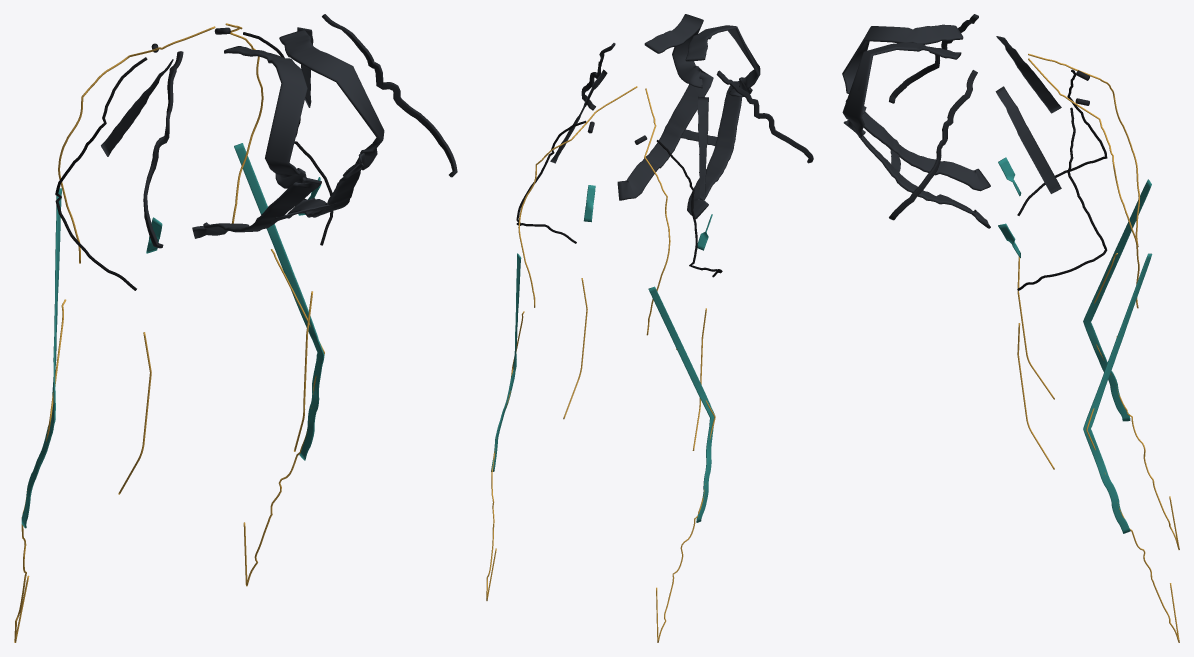
The model's file is sitka_cables_stoop.glb.
The picture shows the model from 3 angles, left to right: view 1: azimuth 30°, elevation 25°; view 2: azimuth 150°, elevation 25°; view 3: azimuth 270°, elevation 25°; orthographic projection. The views are drawn at different scales.
Parts seen in each view (by area): view 1: harness_r, harness_l, hamstring_band_l, hamstring_band_r, m5_lever_l, m5_lever_r, bowden_r, crazycreek_r, t3_tendon_r, calf_band_l, calf_band_r; view 2: harness_l, harness_r, hamstring_band_r, crazycreek_r, m5_lever_r, hamstring_band_l, t3_tendon_l, t3_tendon_r, bowden_l, bowden_r; view 3: harness_r, harness_l, hamstring_band_l, hamstring_band_r, crazycreek_l, m5_lever_l, crazycreek_r, bowden_l, m5_lever_r, t3_tendon_l, bowden_r, t3_tendon_r (+1 smaller).
Part boxes in pixels (bbox=[...]): harness_r: bbox=[192, 46, 321, 238]; harness_l: bbox=[279, 29, 384, 218]; hamstring_band_l: bbox=[234, 143, 324, 460]; hamstring_band_r: bbox=[21, 188, 61, 528]; m5_lever_l: bbox=[322, 14, 457, 177]; m5_lever_r: bbox=[143, 51, 183, 248]; bowden_r: bbox=[55, 57, 147, 290]; crazycreek_r: bbox=[101, 59, 173, 156]; t3_tendon_r: bbox=[58, 26, 215, 263]; calf_band_l: bbox=[246, 249, 324, 586]; calf_band_r: bbox=[14, 299, 66, 642]; harness_l: bbox=[617, 14, 713, 200]; harness_r: bbox=[685, 25, 760, 219]; hamstring_band_r: bbox=[648, 286, 715, 522]; crazycreek_r: bbox=[697, 96, 708, 199]; m5_lever_r: bbox=[716, 70, 813, 163]; hamstring_band_l: bbox=[491, 253, 521, 471]; t3_tendon_l: bbox=[518, 86, 637, 307]; t3_tendon_r: bbox=[644, 88, 670, 335]; bowden_l: bbox=[516, 120, 586, 243]; bowden_r: bbox=[656, 140, 722, 277]; harness_r: bbox=[842, 24, 990, 191]; harness_l: bbox=[842, 42, 990, 228]; hamstring_band_l: bbox=[1083, 253, 1152, 533]; hamstring_band_r: bbox=[1083, 179, 1151, 421]; crazycreek_l: bbox=[995, 86, 1061, 193]; m5_lever_l: bbox=[889, 70, 977, 220]; crazycreek_r: bbox=[996, 36, 1061, 113]; bowden_l: bbox=[1017, 107, 1107, 290]; m5_lever_r: bbox=[889, 14, 978, 103]; t3_tendon_l: bbox=[1028, 58, 1139, 308]; bowden_r: bbox=[1017, 69, 1107, 215]; t3_tendon_r: bbox=[1028, 53, 1140, 246].
Bounding box in the file's own units: 0.582 × 1.25 × 0.6827.
